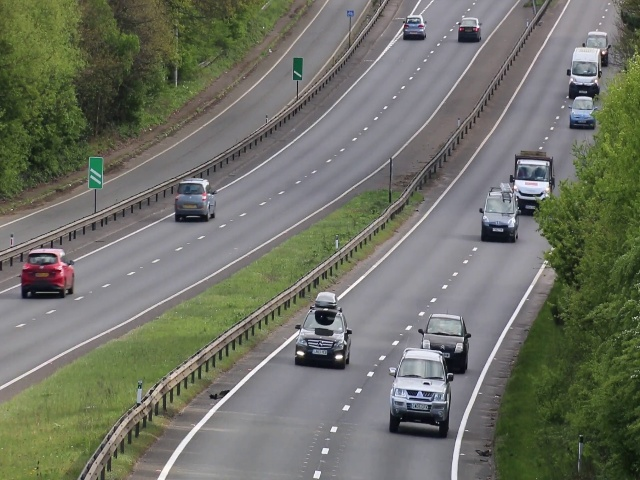car: (387, 356, 449, 429), (296, 305, 349, 366), (19, 248, 77, 298), (480, 194, 518, 242), (173, 179, 217, 220), (513, 163, 549, 204), (422, 316, 464, 351), (568, 55, 600, 95), (570, 94, 595, 128), (402, 11, 428, 39), (457, 15, 483, 42)
